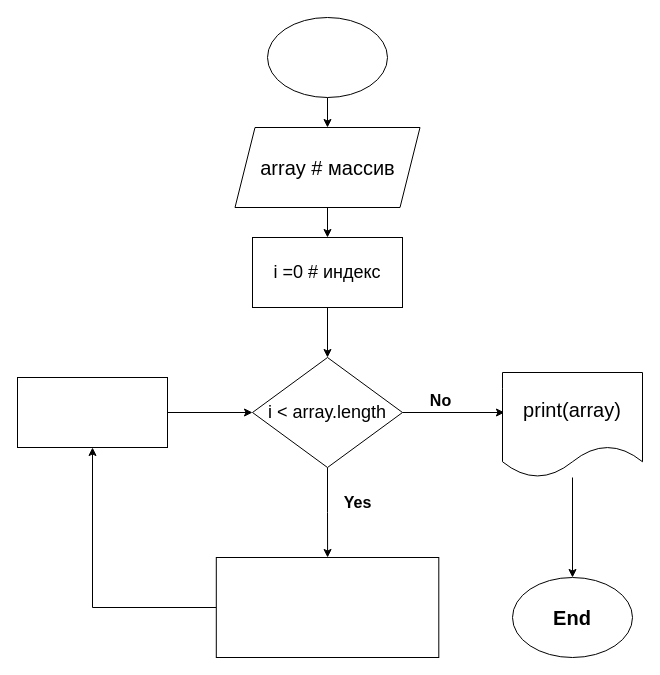
This 660x675 diagram has some shape labels left out. The shapes that lost their labels are listed below. From the top down, each one's centre as x and y in pixels, then its label:
At (x=327, y=57): "Start".
At (x=92, y=412): "i ++".
At (x=327, y=607): "array[i] = array[array.length - i]".
